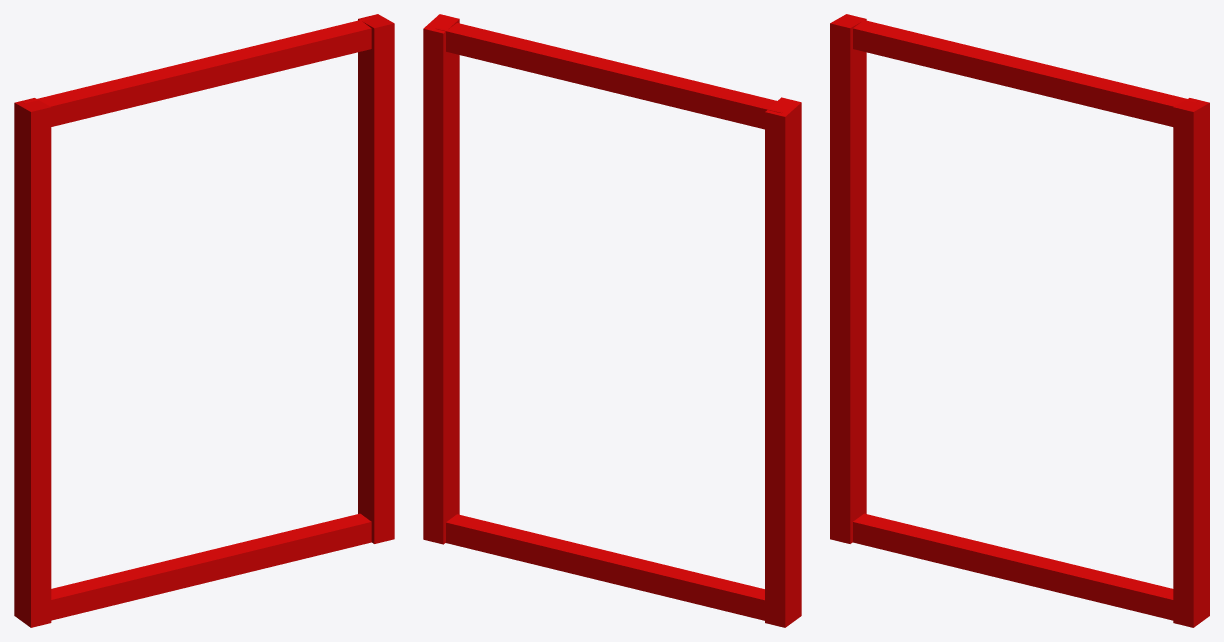
Rendered from SM_Env_Bridge_Clean_03_Collision.fbx.
3 renders of one model, left to right at view 1: azimuth 30°, elevation 25°; view 2: azimuth 150°, elevation 25°; view 3: azimuth 330°, elevation 25°, orthographic.
Parts seen in each view (by area): view 1: SM_Env_Bridge_Clean_03_Collision; view 2: SM_Env_Bridge_Clean_03_Collision; view 3: SM_Env_Bridge_Clean_03_Collision.
Boxes of the visible parts, x1,y1,x2,y2 form: SM_Env_Bridge_Clean_03_Collision: (14,14,394,627); SM_Env_Bridge_Clean_03_Collision: (423,14,801,627); SM_Env_Bridge_Clean_03_Collision: (830,14,1209,627).
Size of the model in its own units: 2037 by 2764 by 160.
